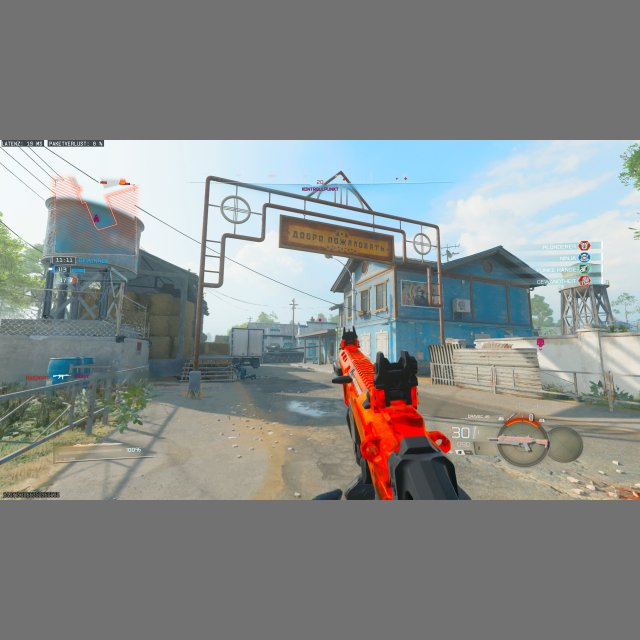head: (341, 331, 359, 349)
player: (331, 331, 373, 411)
